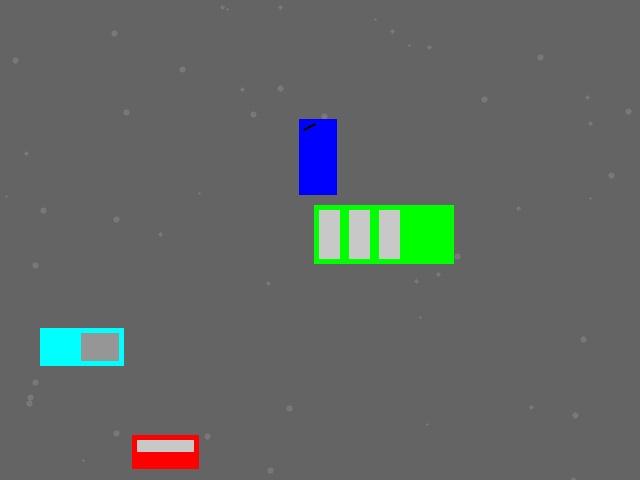bus: (314, 205, 453, 263)
car: (132, 435, 198, 468)
motorcycle: (299, 119, 336, 194)
truck: (40, 328, 123, 365)
